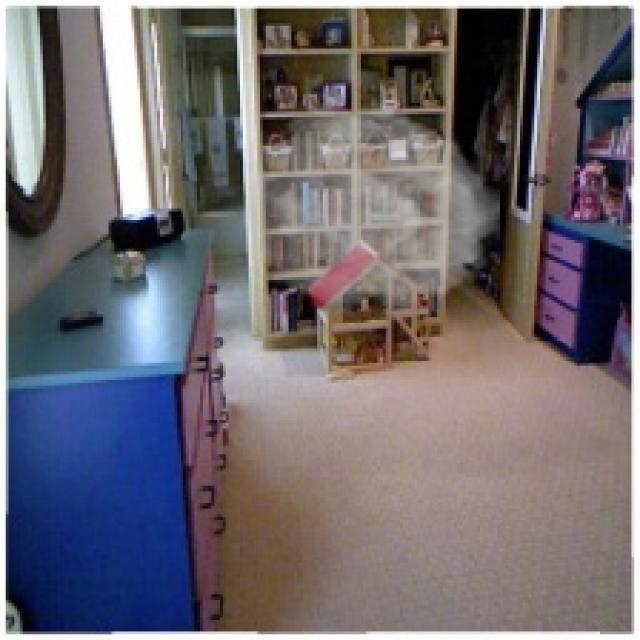Smoke: (243, 91, 500, 323)
